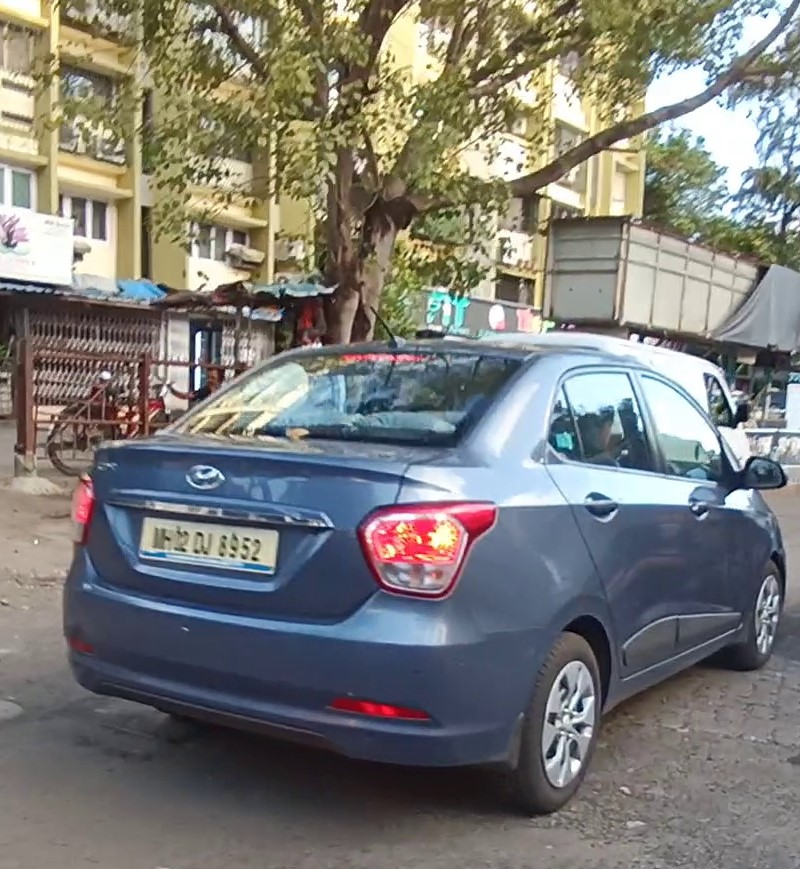MH02DJ8952: (141, 516, 279, 575)
